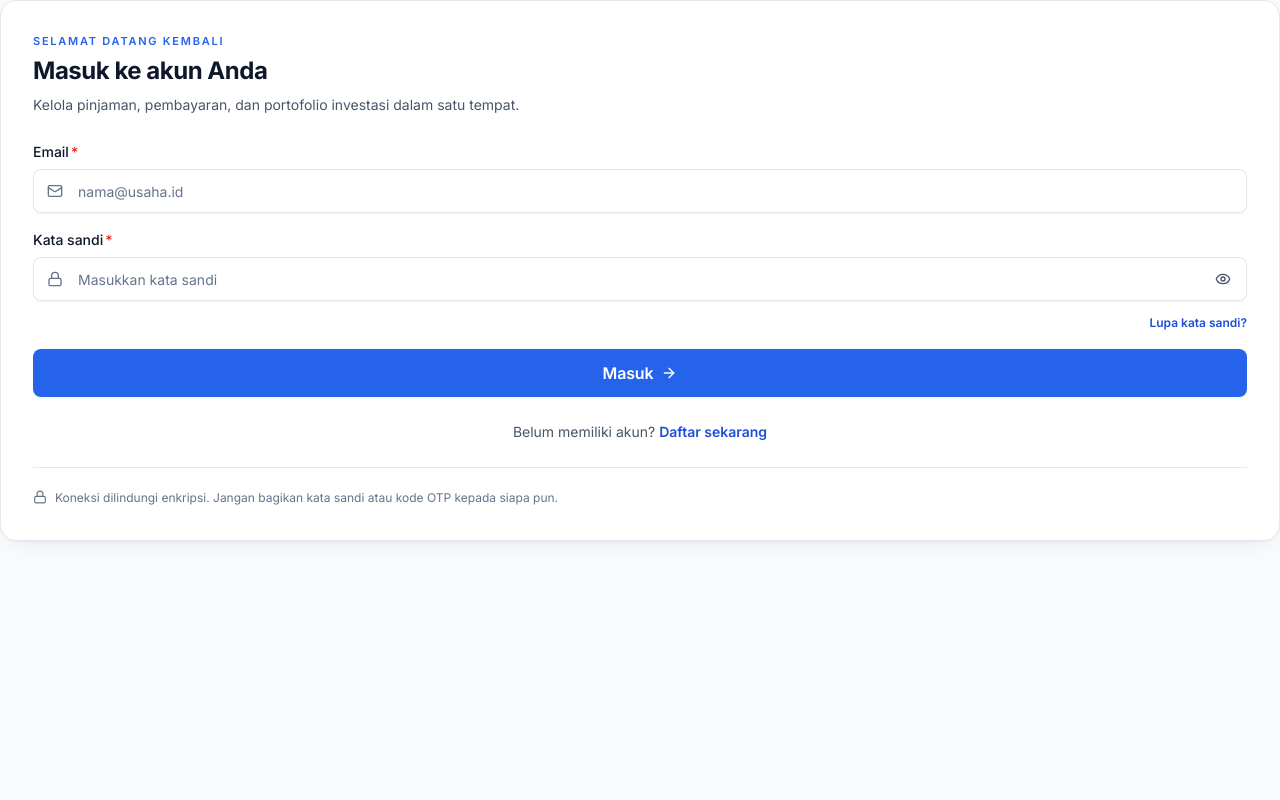
LoginForm › shows API error message on failed login
This screenshot has width=1280, height=800.
Type "budi@example.id" into the field labelled "Email*" at (640, 191), box [33,169,1247,213]
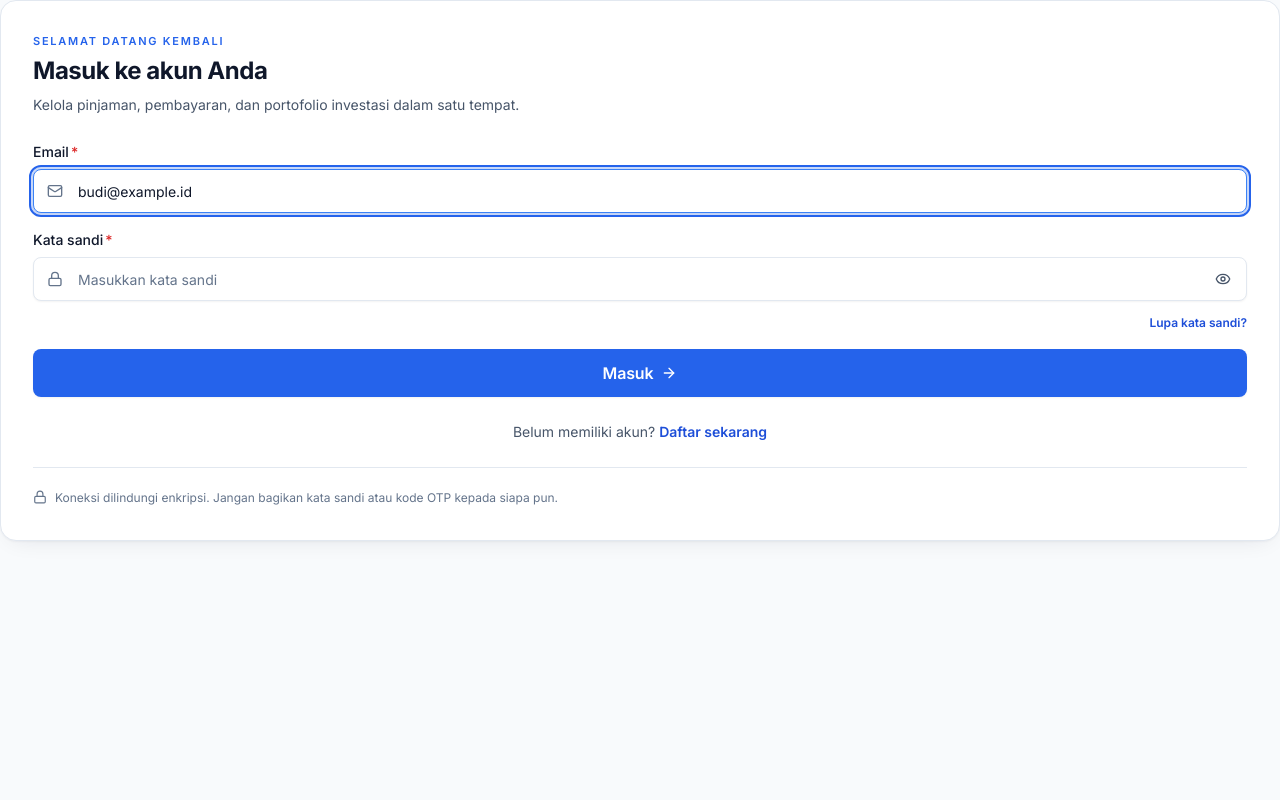
Type "Salah#2026Aman" into the password field labelled "Kata sandi*" at (640, 279), box [33,257,1247,301]
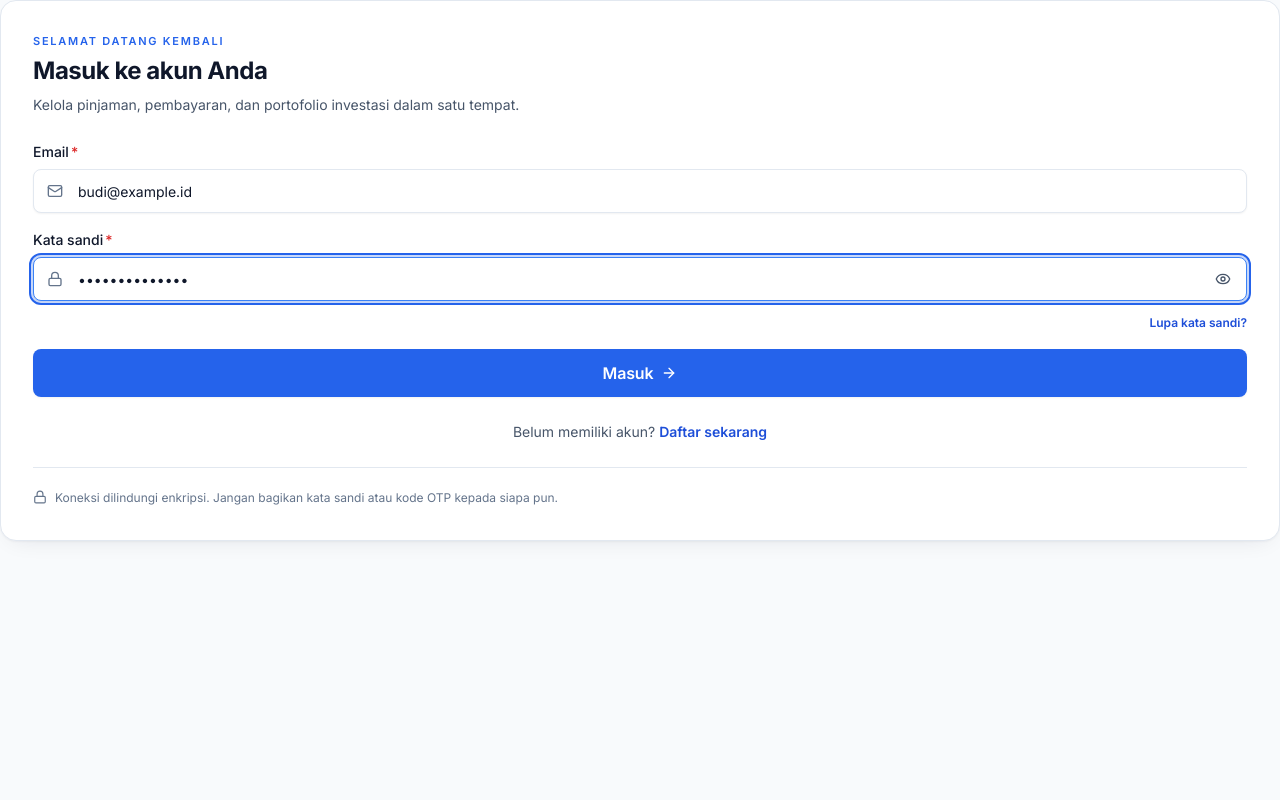
Click the button "Masuk" at (640, 373), box [33,349,1247,397]
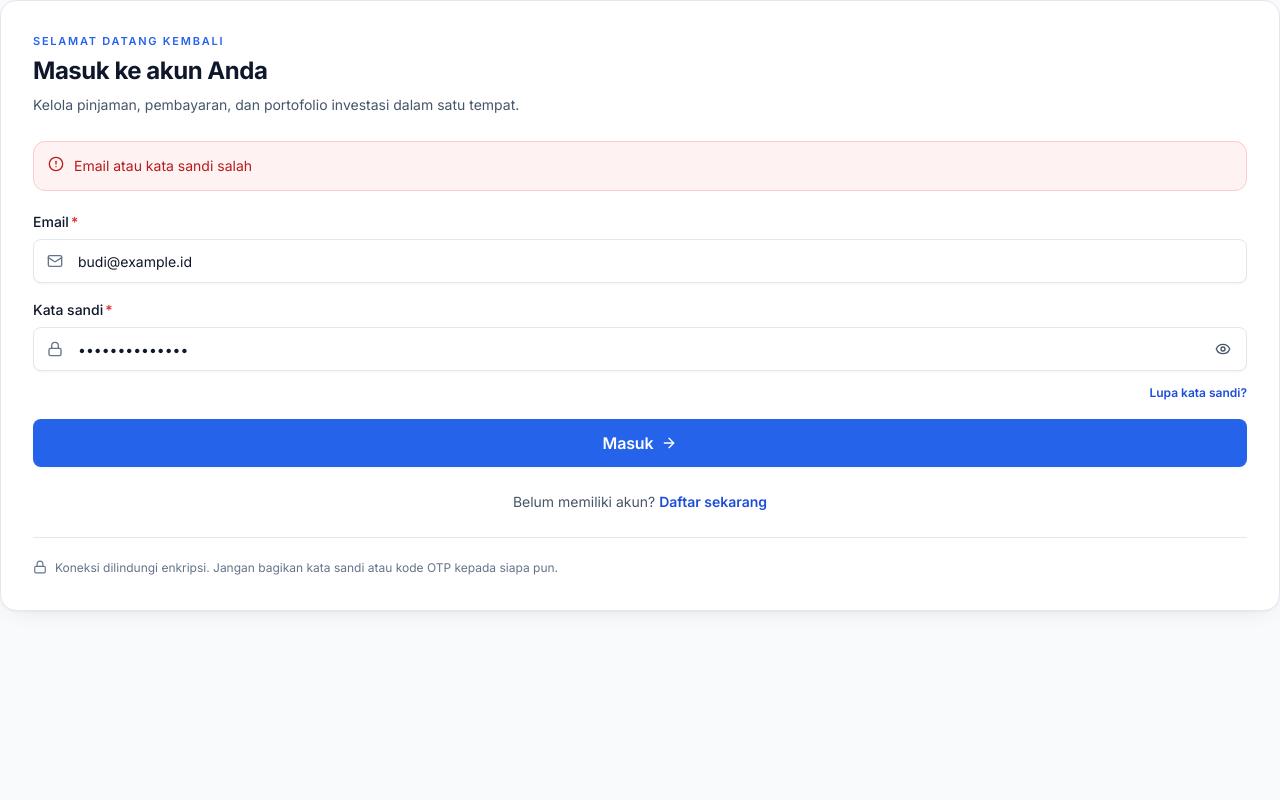
Expected: the message reads "Email atau kata sandi salah", [74,157,252,174]
